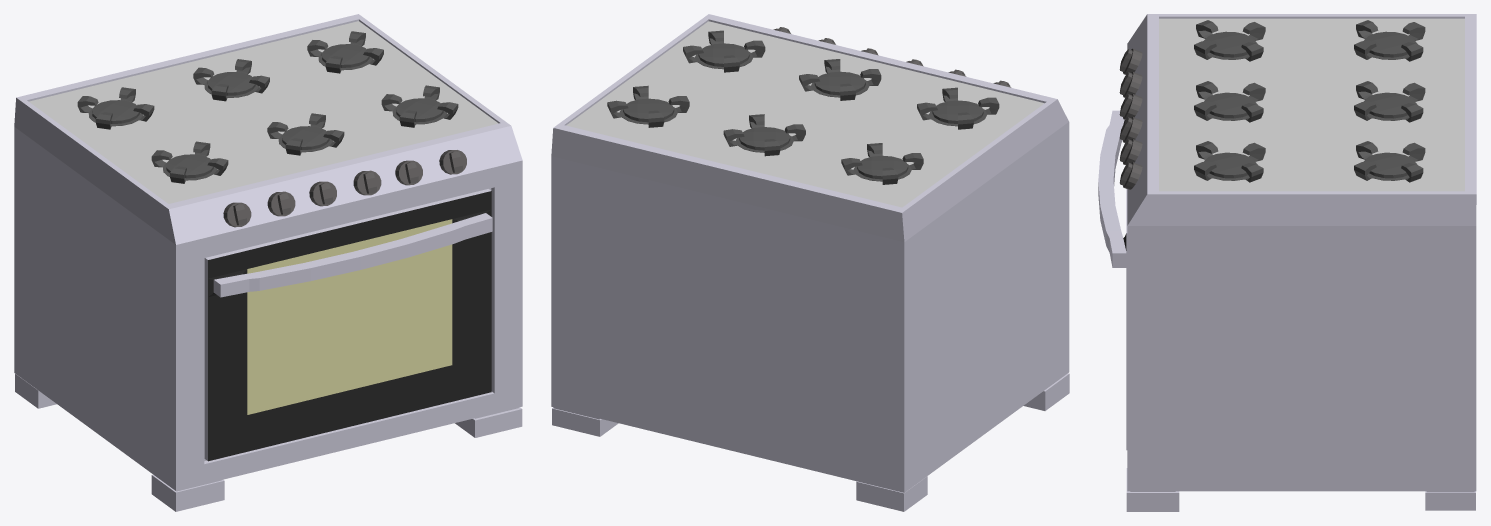
File: Forno.fbx
3 views of the same model, side by side, from view 1: azimuth 30°, elevation 25°; view 2: azimuth 150°, elevation 25°; view 3: azimuth 270°, elevation 25° (orthographic). The views are drawn at different scales.
Parts seen in each view (by area): view 1: Cube.098, Cube.099, Cube.105, Cube.107, Cube.104, Cube.108, Cube.106, Cube.100, Cube.101, Cube.102, Cube.109, Cube.103 (+1 smaller); view 2: Cube.098, Cube.108, Cube.099, Cube.107, Cube.105, Cube.106, Cube.104; view 3: Cube.098, Cube.106, Cube.108, Cube.105, Cube.107, Cube.099, Cube.104, Cube.110, Cube.109.
Boxes of the visible parts, x1,y1,x2,y2 form: Cube.098: (14,14,522,511); Cube.099: (151,141,228,183); Cube.105: (381,85,458,127); Cube.107: (267,113,344,155); Cube.104: (77,87,154,129); Cube.108: (193,59,269,101); Cube.106: (307,31,383,73); Cube.100: (223,202,251,227); Cube.101: (267,191,295,216); Cube.102: (309,181,336,206); Cube.109: (395,160,422,185); Cube.103: (353,170,381,195); Cube.098: (551,14,1069,511); Cube.108: (723,114,805,156); Cube.099: (917,87,999,129); Cube.107: (799,59,881,100); Cube.105: (683,30,765,72); Cube.106: (607,85,689,127); Cube.104: (841,143,923,184); Cube.098: (1098,14,1476,511); Cube.106: (1354,141,1425,182); Cube.108: (1354,81,1425,122); Cube.105: (1194,141,1265,182); Cube.107: (1194,81,1265,122); Cube.099: (1194,20,1265,61); Cube.104: (1354,20,1425,61); Cube.110: (1119,162,1142,189); Cube.109: (1119,139,1142,165).
Size of the model in its own units: 181 by 152 by 158.
